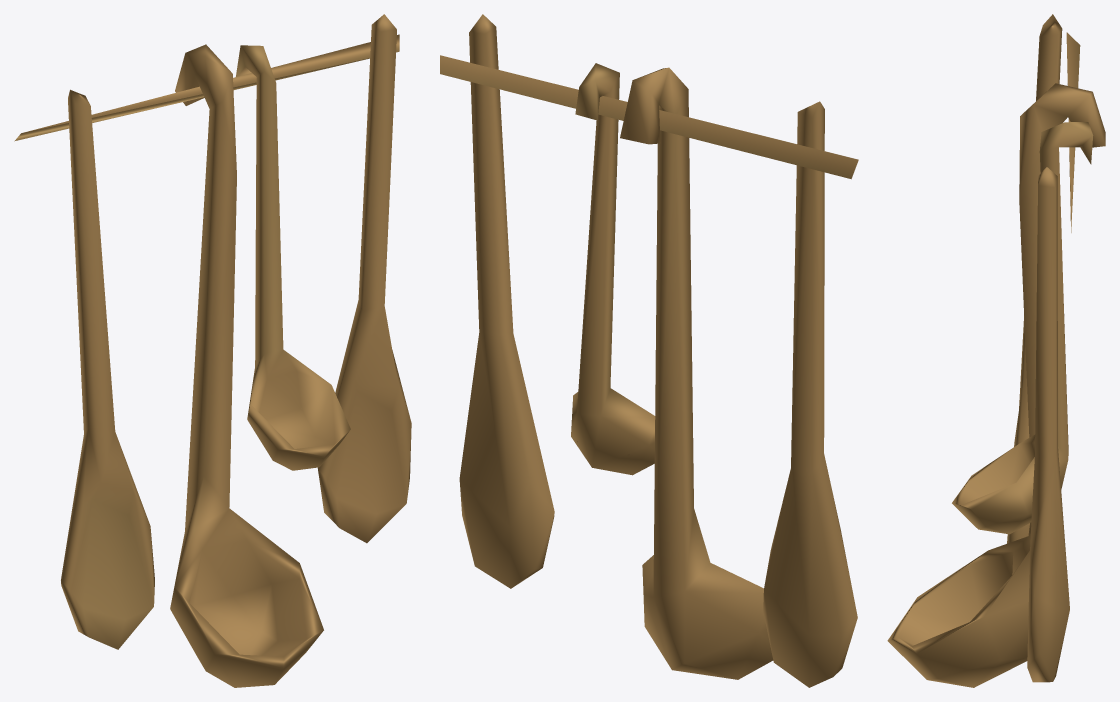
3 renders of one model, left to right at view 1: azimuth 30°, elevation 25°; view 2: azimuth 150°, elevation 25°; view 3: azimuth 270°, elevation 25°, orthographic. The views are drawn at different scales.
Visible parts, largest first — view 1: AntiqueSpoons; view 2: AntiqueSpoons; view 3: AntiqueSpoons.
Part boxes in pixels (x1,y1,x2,y2): AntiqueSpoons: (14, 14, 411, 687); AntiqueSpoons: (440, 14, 858, 687); AntiqueSpoons: (887, 14, 1105, 687).
Bounding box in the file's own units: 0.2453 × 0.3628 × 0.1196.
Materials: 2 (2 with a texture image).
